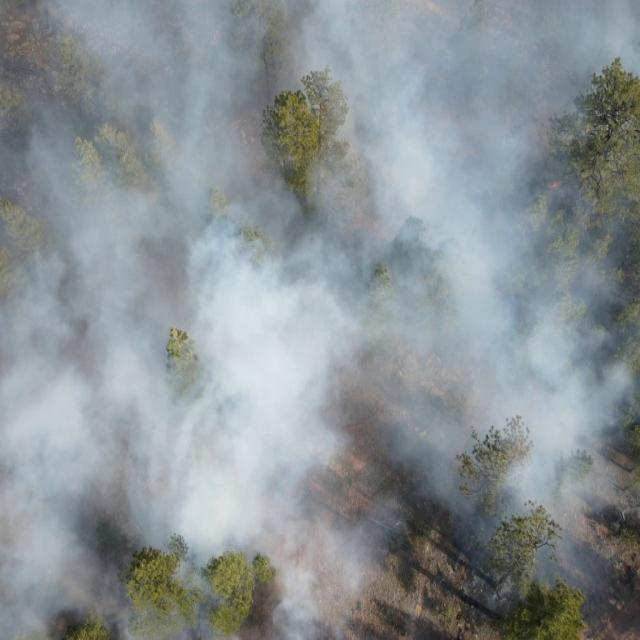fire: (548, 178, 562, 192)
smoke: (0, 0, 366, 640), (366, 0, 640, 514), (454, 512, 640, 602), (368, 517, 408, 585)
